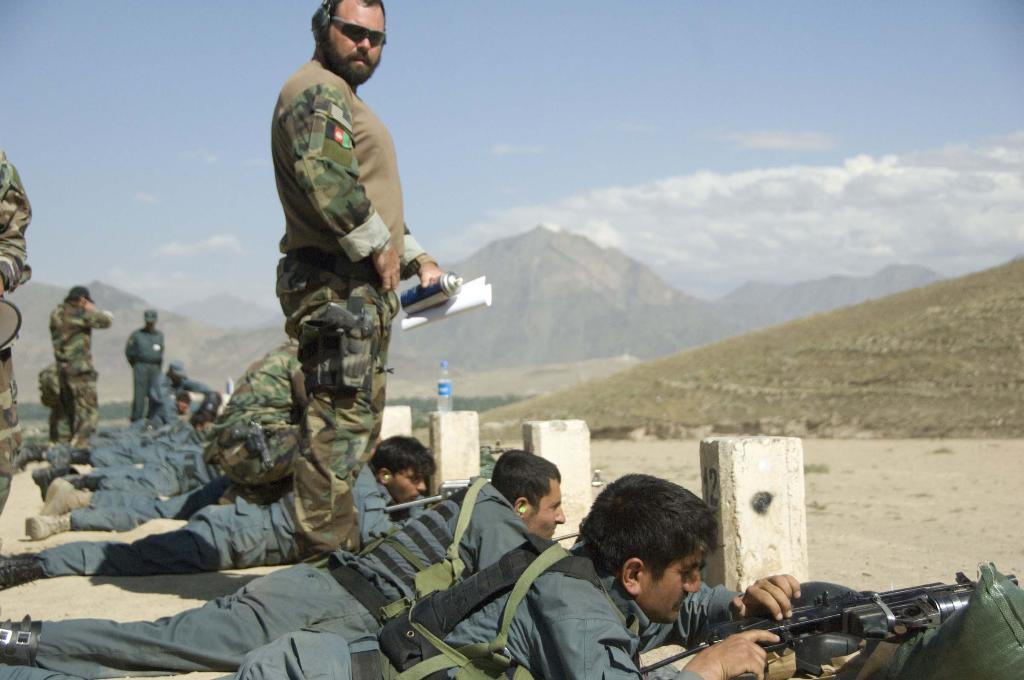Rifle: (646, 577, 1023, 679)
